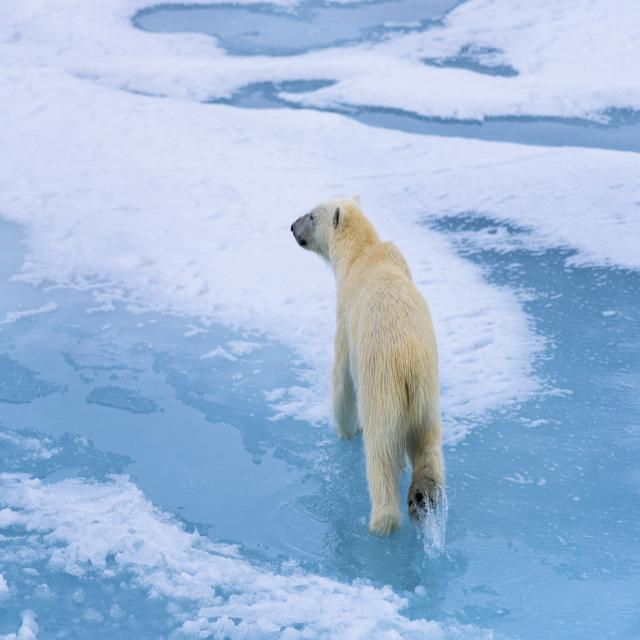Buffalo: (287, 190, 445, 540)
